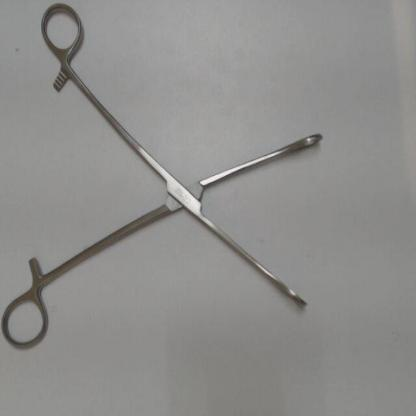Sponge Forceps: (3, 2, 339, 352)
